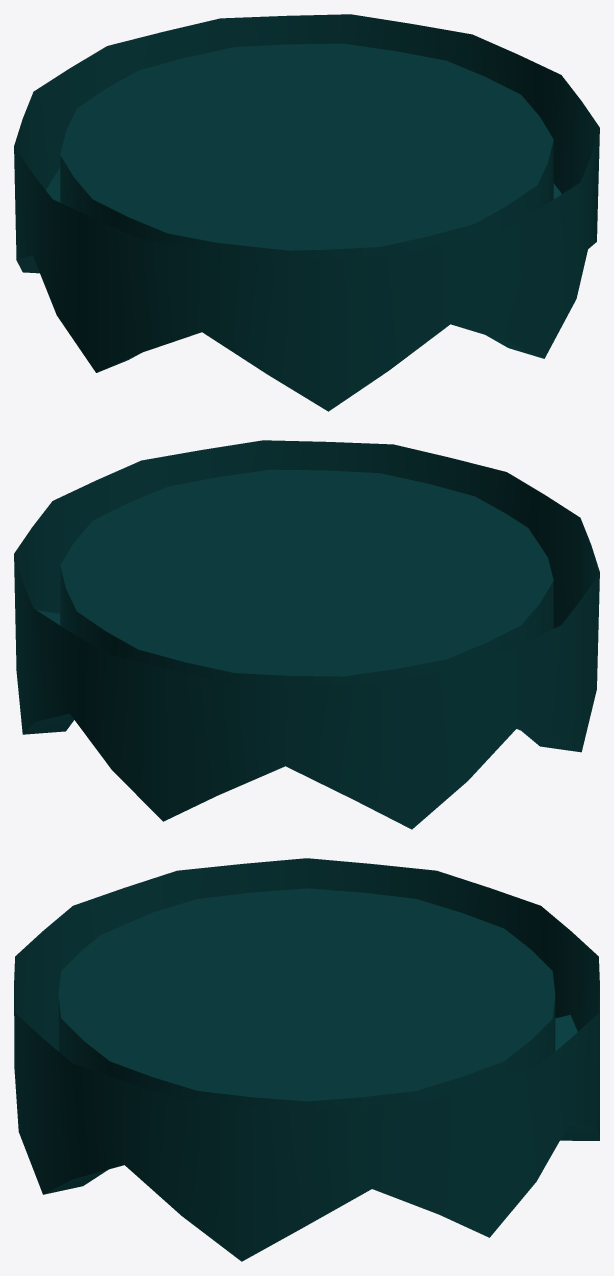
The model's file is top_low.FBX.
3 views of the same model, one above another, from view 1: azimuth 30°, elevation 25°; view 2: azimuth 150°, elevation 25°; view 3: azimuth 270°, elevation 25° (orthographic).
Parts seen in each view (by area): view 1: pillar_top; view 2: pillar_top; view 3: pillar_top.
Part boxes in pixels (box(x1,y1,x2,y2)): pillar_top: box(14, 14, 599, 411); pillar_top: box(14, 440, 599, 829); pillar_top: box(14, 858, 599, 1261).
Size of the model in its own units: 9.4 by 2.71 by 9.2.
